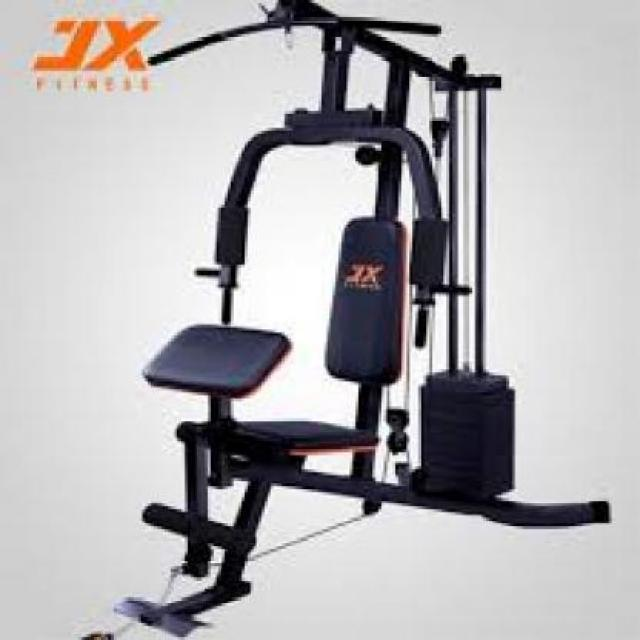Lat Pull Down: (112, 0, 616, 640)
